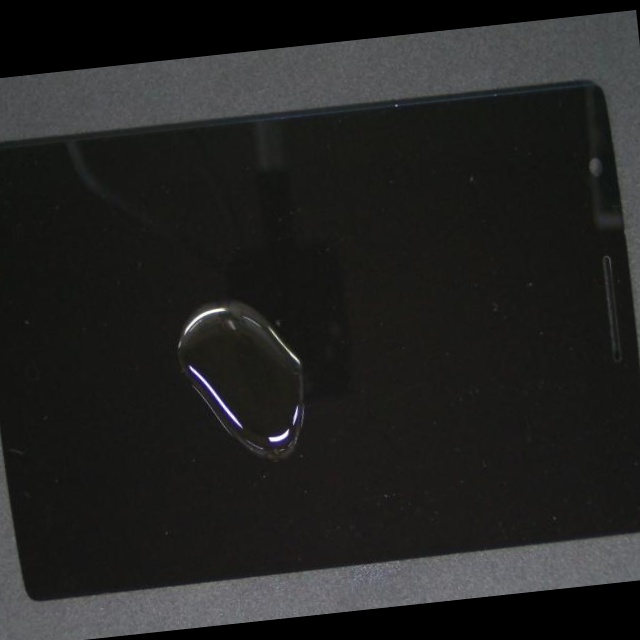oil: (67, 263, 449, 638)
